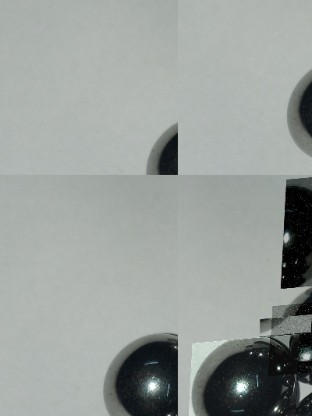ironball: (190, 339, 303, 415), (102, 326, 173, 416), (282, 180, 311, 293), (272, 306, 311, 381), (284, 57, 310, 161), (141, 115, 178, 176)
